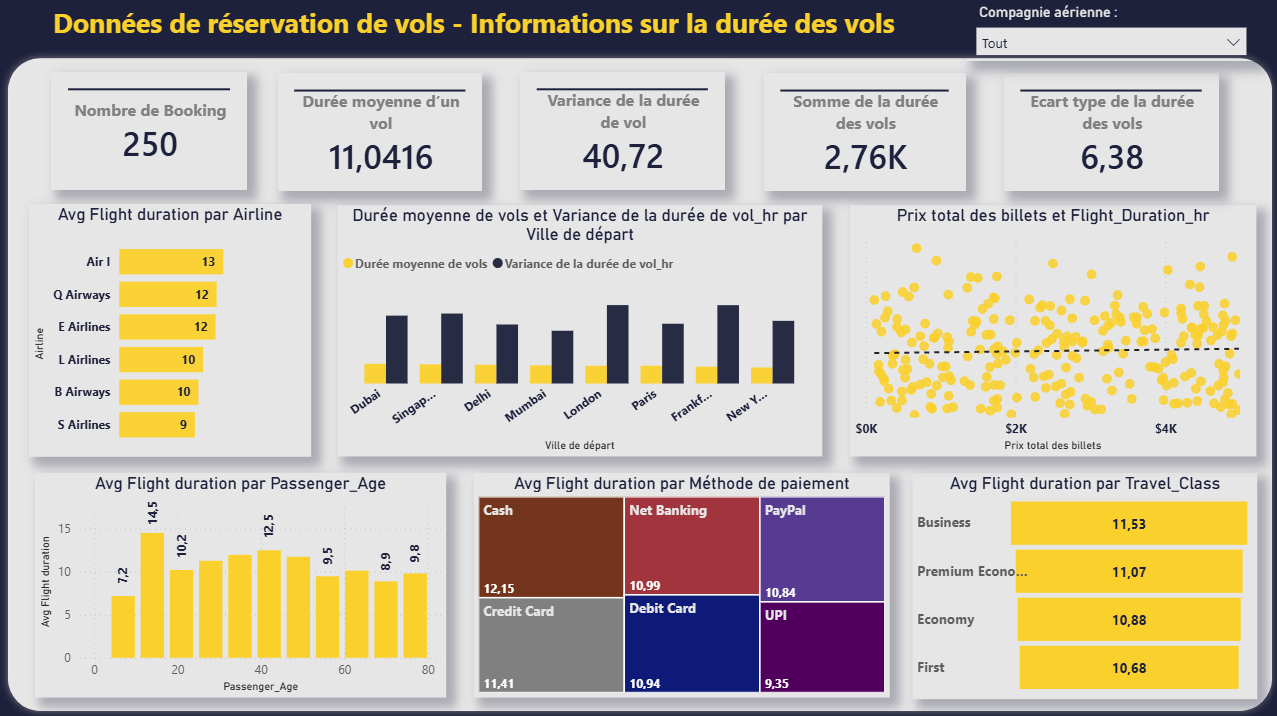

The page's visual inventory and layout, read from the dashboard file:
{"tool":"powerbi","page":{"name":"Duration Insights Dashboard (Analyse de la durée du vol)","canvas":[1280,720],"ordinal":1},"visuals":[{"type":"textbox","box":[35,0,877.5,72.5],"z":0},{"type":"shape","box":[0,51,1280.2,668.6],"z":1000},{"type":"cardVisual","fields":{"Data":["CountNonNull(flight_bookings_sample.Booking_ID)"]},"box":[51.2,72.5,196.2,118.8],"z":2000},{"type":"cardVisual","fields":{"Data":["Sum(flight_bookings_sample.Flight_Duration_hr)"]},"box":[520,72.5,205,118.8],"z":4000},{"type":"cardVisual","fields":{"Data":["Sum(flight_bookings_sample.Flight_Duration_hr)"]},"box":[763.8,73.8,202.5,118.8],"z":5000},{"type":"cardVisual","fields":{"Data":["Avg(flight_bookings_sample.Flight_Duration_hr)"]},"box":[277.5,73.8,205,118.8],"z":6000},{"type":"barChart","fields":{"Category":["flight_bookings_sample.Airline"],"Y":["flight_bookings_sample.Avg Flight duration"]},"box":[28.8,205,282.5,252.5],"z":8000},{"type":"clusteredColumnChart","fields":{"Category":["flight_bookings_sample.Departure_City"],"Y":["flight_bookings_sample.Avg Flight duration","Variance(flight_bookings_sample.Flight_Duration_hr)"]},"box":[337.5,206.2,485,251.2],"z":9000},{"type":"funnel","fields":{"Category":["flight_bookings_sample.Travel_Class"],"Y":["flight_bookings_sample.Avg Flight duration"]},"box":[912.5,473.8,345,226.2],"z":10000},{"type":"treemap","fields":{"Group":["flight_bookings_sample.Payment_Method"],"Values":["flight_bookings_sample.Avg Flight duration"]},"box":[473.8,473.8,416.2,225],"z":11000},{"type":"scatterChart","fields":{"Y":["Sum(flight_bookings_sample.Flight_Duration_hr)"],"X":["Sum(flight_bookings_sample.Ticket_Price)"]},"box":[850,206.2,406.2,251.2],"z":12000},{"type":"columnChart","fields":{"Category":["flight_bookings_sample.Passenger_Age (compartiments)"],"Y":["flight_bookings_sample.Avg Flight duration"]},"box":[35,473.8,411.2,225],"z":13000},{"type":"slicer","fields":{"Values":["flight_bookings_sample.Airline"]},"box":[966.2,0,290,62.5],"z":14000},{"type":"cardVisual","fields":{"Data":["Sum(flight_bookings_sample.Flight_Duration_hr)"]},"box":[1003.8,73.8,215,118.8],"z":15001}]}

Visuals, with their boxes in screenshot pixels (x1, y1, x2, y2), scaled from the page's 1280x720 canvas onto the 1277x716 screenshot:
textbox: l=35, t=0, r=910, b=72
shape: l=0, t=51, r=1276, b=715
cardVisual - CountNonNull(flight_bookings_sample.Booking_ID): l=51, t=72, r=247, b=190
cardVisual - Sum(flight_bookings_sample.Flight_Duration_hr): l=519, t=72, r=723, b=190
cardVisual - Sum(flight_bookings_sample.Flight_Duration_hr): l=762, t=73, r=964, b=192
cardVisual - Avg(flight_bookings_sample.Flight_Duration_hr): l=277, t=73, r=481, b=192
barChart - flight_bookings_sample.Airline x flight_bookings_sample.Avg Flight duration: l=29, t=204, r=311, b=455
clusteredColumnChart - flight_bookings_sample.Departure_City x flight_bookings_sample.Avg Flight duration: l=337, t=205, r=821, b=455
funnel - flight_bookings_sample.Travel_Class x flight_bookings_sample.Avg Flight duration: l=910, t=471, r=1255, b=696
treemap - flight_bookings_sample.Payment_Method x flight_bookings_sample.Avg Flight duration: l=473, t=471, r=888, b=695
scatterChart - Sum(flight_bookings_sample.Flight_Duration_hr) x Sum(flight_bookings_sample.Ticket_Price): l=848, t=205, r=1253, b=455
columnChart - flight_bookings_sample.Passenger_Age (compartiments) x flight_bookings_sample.Avg Flight duration: l=35, t=471, r=445, b=695
slicer - flight_bookings_sample.Airline: l=964, t=0, r=1253, b=62
cardVisual - Sum(flight_bookings_sample.Flight_Duration_hr): l=1001, t=73, r=1216, b=192
